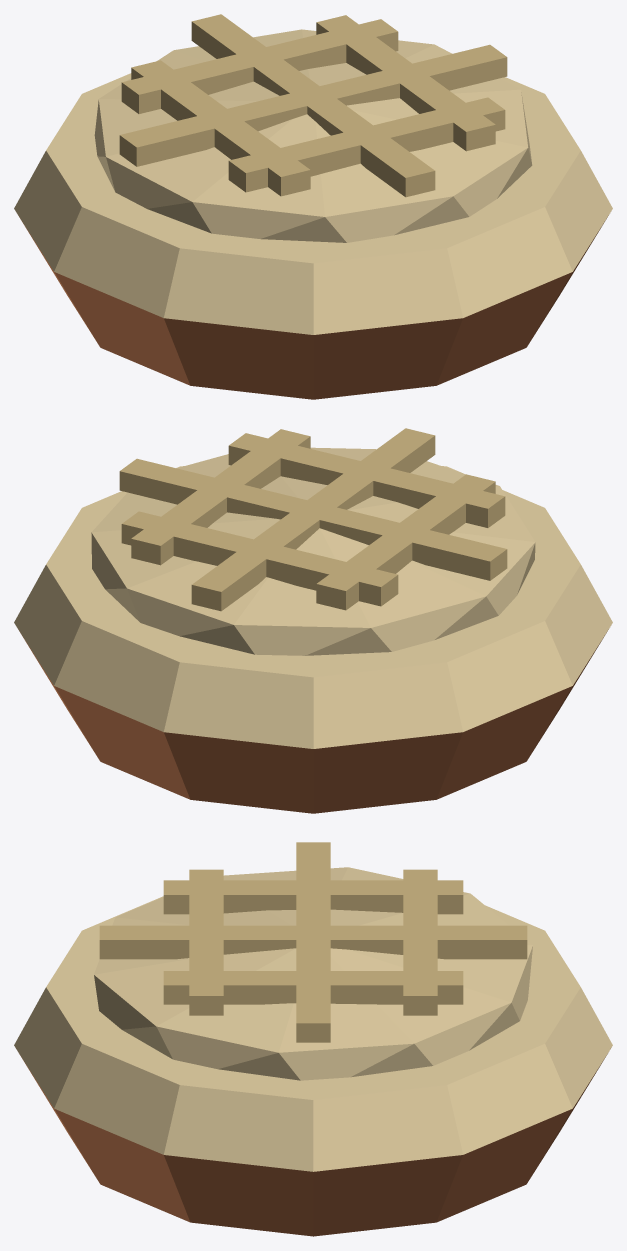
Rendered from drop_pie_raw.glb.
3 views of the same model, one above another, from view 1: azimuth 30°, elevation 25°; view 2: azimuth 150°, elevation 25°; view 3: azimuth 270°, elevation 25° (orthographic).
Visible parts, largest first — view 1: drop_pie_raw; view 2: drop_pie_raw; view 3: drop_pie_raw.
Boxes of the visible parts, box(x1,y1,x2,y2) form: drop_pie_raw: box(14, 14, 612, 399); drop_pie_raw: box(14, 428, 612, 813); drop_pie_raw: box(14, 842, 612, 1236).
Size of the model in its own units: 0.28 by 0.103 by 0.28.
